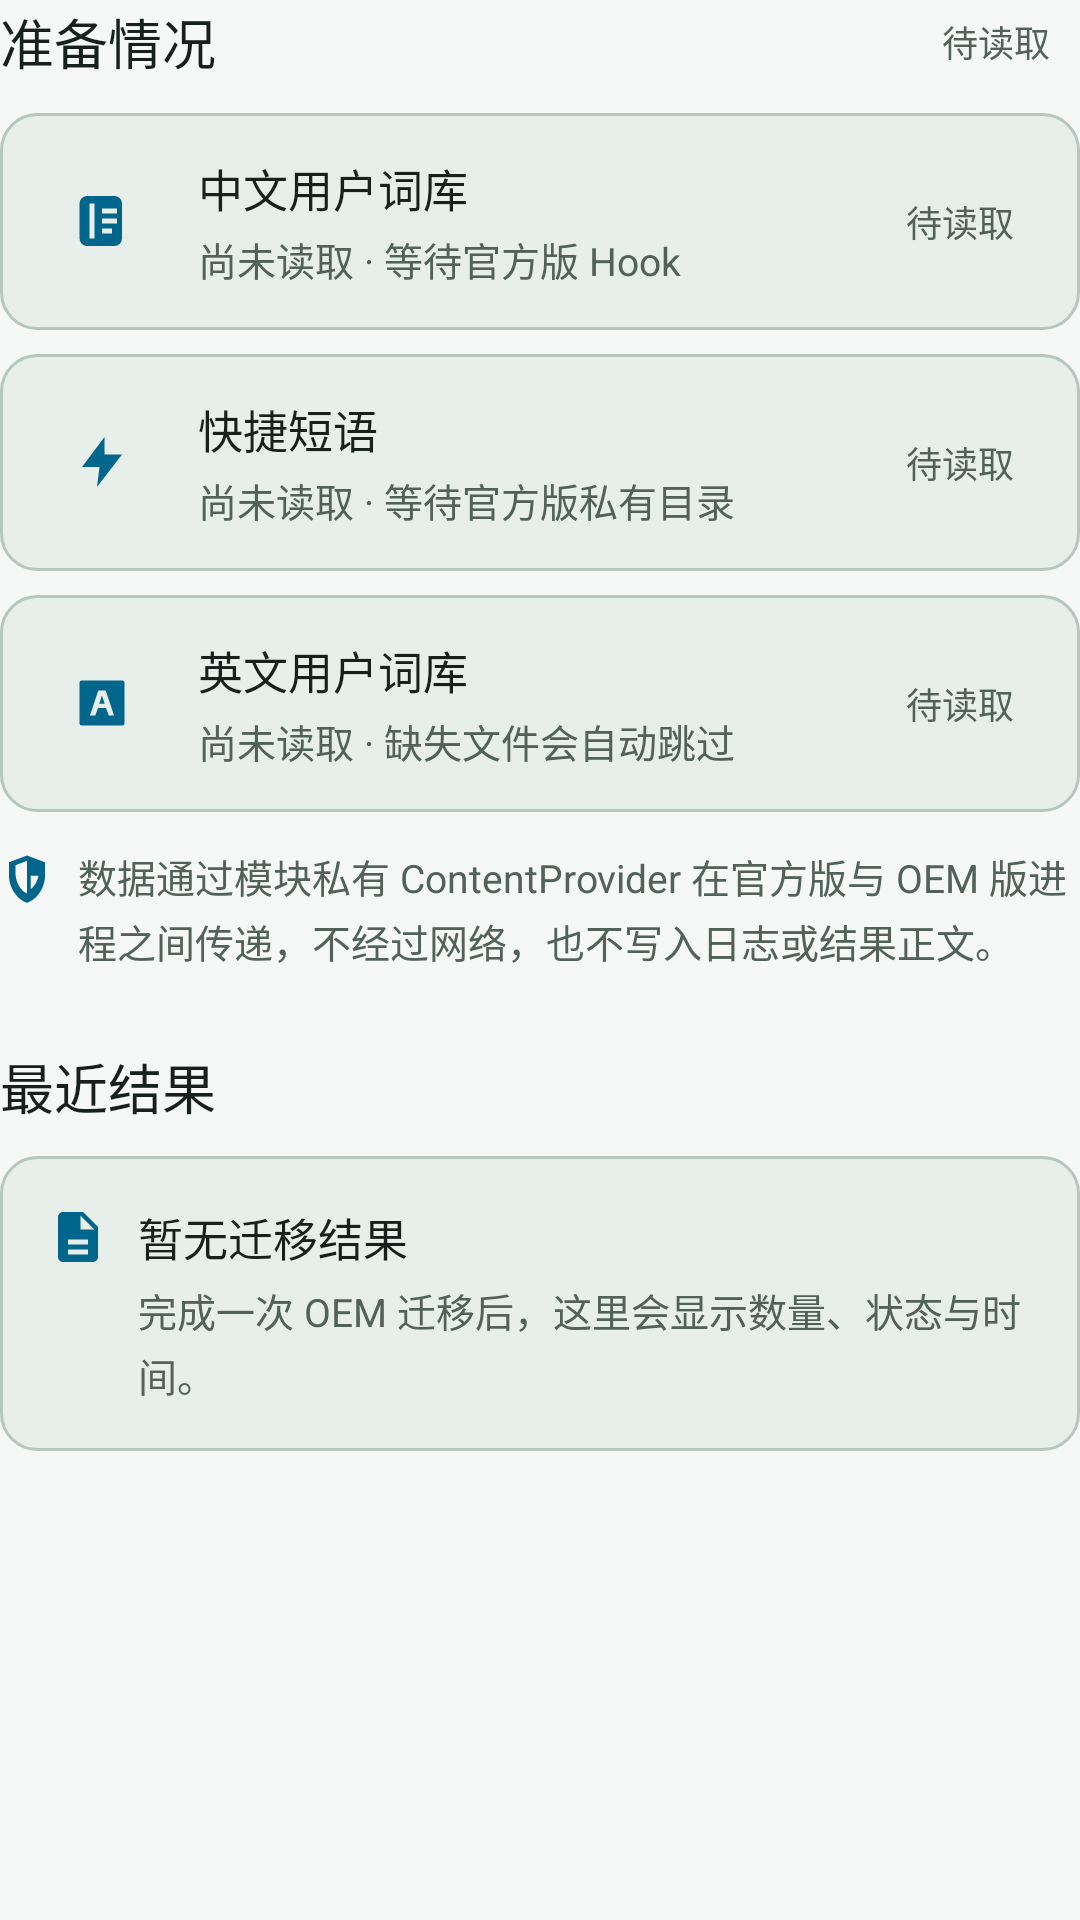

Screen size 1080 x 1920. Icon name, then its box in pixels as BBox(x1, y1, x2, y2):
english: BBox(79, 680, 125, 726)
result: BBox(58, 1212, 98, 1262)
shield: BBox(9, 855, 45, 903)
shortcut: BBox(82, 437, 122, 487)
